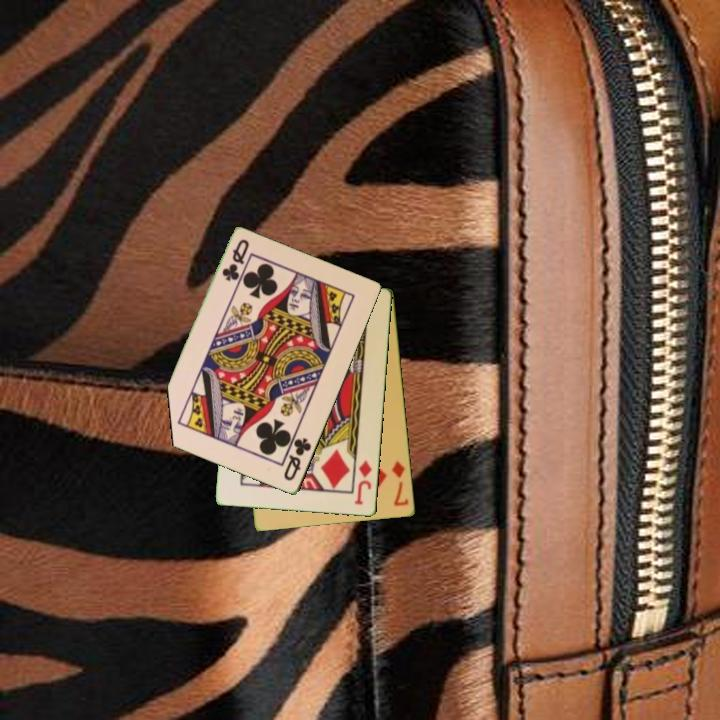7d: (388, 458, 412, 509)
Jd: (352, 457, 375, 508)
Qc: (280, 435, 315, 484), (218, 236, 252, 285)
